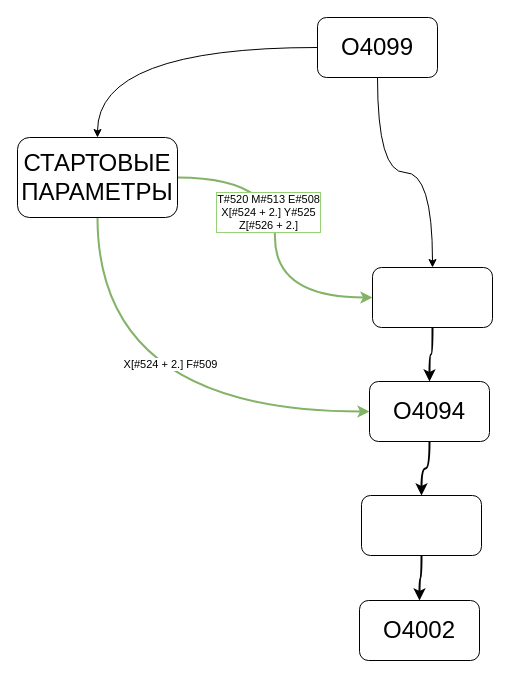
Some shapes in this 510 by 678 pixel diagram are drawn without their labels. Each missing label, with the box of its shape:
O4001: (372, 266, 492, 328)
O4071: (360, 494, 482, 556)
